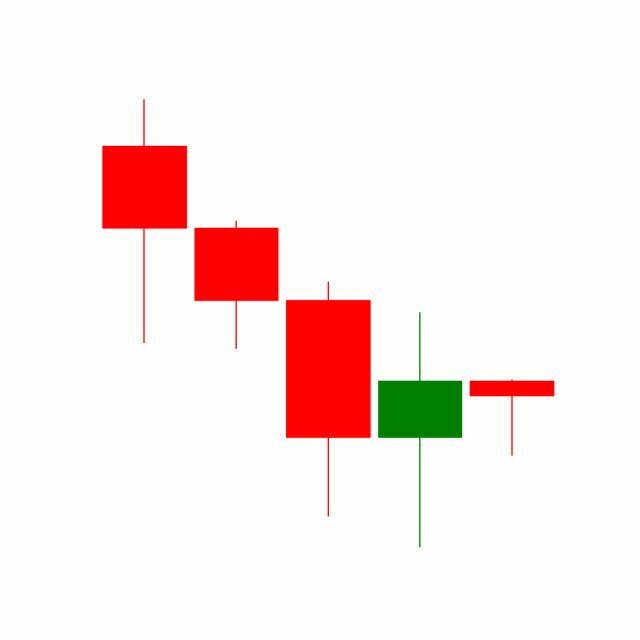Dragonfly Doji: (466, 379, 559, 457)
